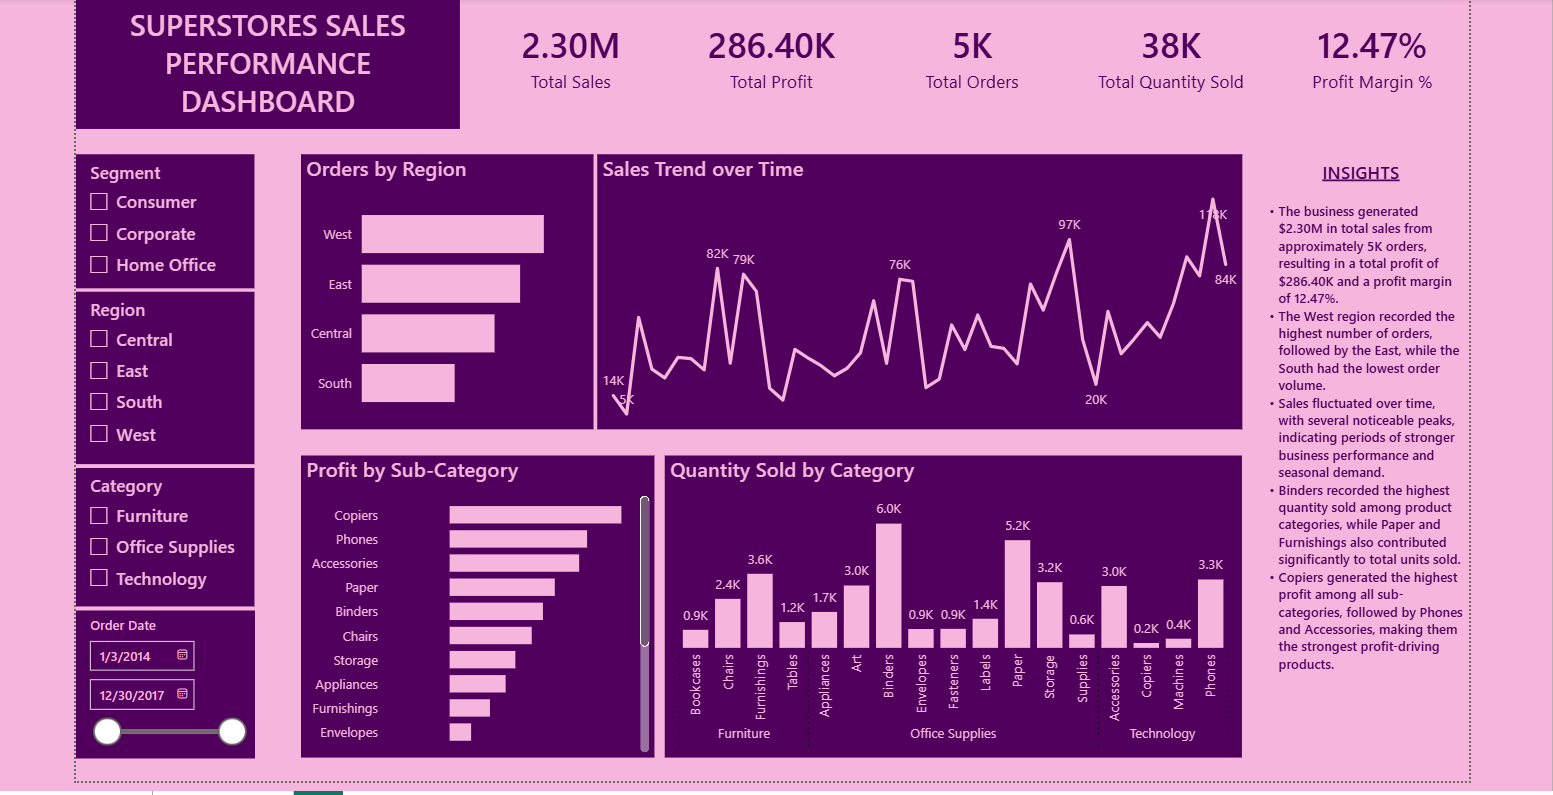

Layout of this report page (visuals, bound fields, positions):
{"tool":"powerbi","page":{"name":"DASHBOARD","canvas":[1280,720],"ordinal":0},"visuals":[{"type":"cardVisual","fields":{"Data":["Sample - Superstore.Total Quantity Sold"]},"box":[910.2,0,193.9,107.1],"z":0},{"type":"cardVisual","fields":{"Data":["Sample - Superstore.Total Profit"]},"box":[540.8,0,196.9,107.1],"z":1000},{"type":"cardVisual","fields":{"Data":["Sample - Superstore.Total Sales"]},"box":[368.4,0,172.4,107.1],"z":2000},{"type":"cardVisual","fields":{"Data":["Sample - Superstore.Total Orders"]},"box":[737.8,0,172.4,107.1],"z":3000},{"type":"cardVisual","fields":{"Data":["Sample - Superstore.Profit Margin %"]},"box":[1104.1,0,175.5,107.1],"z":4000},{"type":"lineChart","title":"Sales Trend over Time","fields":{"Category":["Sample - Superstore.Order Date.Variation.Date Hierarchy.Year","Sample - Superstore.Order Date.Variation.Date Hierarchy.Month"],"Y":["Sample - Superstore.Total Sales"]},"box":[479,143.6,592.7,252.7],"z":5000},{"type":"clusteredBarChart","title":"Orders by Region","fields":{"Category":["Sample - Superstore.Region"],"Y":["Sample - Superstore.Total Orders"]},"box":[206.8,143.6,268.8,252.7],"z":6000},{"type":"clusteredColumnChart","title":"Quantity Sold by Category","fields":{"Category":["Sample - Superstore.Category","Sample - Superstore.Sub-Category"],"Y":["Sample - Superstore.Total Quantity Sold"]},"box":[541,420.4,530.7,278],"z":7000},{"type":"clusteredBarChart","title":"Profit by Sub-Category","fields":{"Category":["Sample - Superstore.Sub-Category"],"Y":["Sample - Superstore.Total Profit"]},"box":[206.8,420.4,325.1,278],"z":8000},{"type":"slicer","fields":{"Values":["Sample - Superstore.Segment"]},"box":[0,143.6,164.3,122.9],"z":9000},{"type":"slicer","fields":{"Values":["Sample - Superstore.Category"]},"box":[0,431.9,164.3,127.5],"z":10000},{"type":"slicer","fields":{"Values":["Sample - Superstore.Region"]},"box":[0,269.9,164.3,158.5],"z":11000},{"type":"slicer","fields":{"Values":["Sample - Superstore.Order Date"]},"box":[0,562.9,164.3,135.5],"z":12000},{"type":"textbox","box":[0,1.1,352.7,119.5],"z":13000},{"type":"textbox","box":[1082.1,143.6,197.6,554.8],"z":13001}]}

Visuals, with their boxes in screenshot pixels (x1, y1, x2, y2):
cardVisual - Sample - Superstore.Total Quantity Sold: box=[1062, 0, 1274, 113]
cardVisual - Sample - Superstore.Total Profit: box=[659, 0, 874, 113]
cardVisual - Sample - Superstore.Total Sales: box=[471, 0, 659, 113]
cardVisual - Sample - Superstore.Total Orders: box=[874, 0, 1062, 113]
cardVisual - Sample - Superstore.Profit Margin %: box=[1274, 0, 1465, 113]
"Sales Trend over Time" lineChart: box=[591, 153, 1238, 428]
"Orders by Region" clusteredBarChart: box=[294, 153, 588, 428]
"Quantity Sold by Category" clusteredColumnChart: box=[659, 455, 1238, 758]
"Profit by Sub-Category" clusteredBarChart: box=[294, 455, 649, 758]
slicer - Sample - Superstore.Segment: box=[69, 153, 248, 287]
slicer - Sample - Superstore.Category: box=[69, 467, 248, 606]
slicer - Sample - Superstore.Region: box=[69, 290, 248, 463]
slicer - Sample - Superstore.Order Date: box=[69, 610, 248, 758]
textbox: box=[69, 0, 454, 128]
textbox: box=[1250, 153, 1465, 758]
